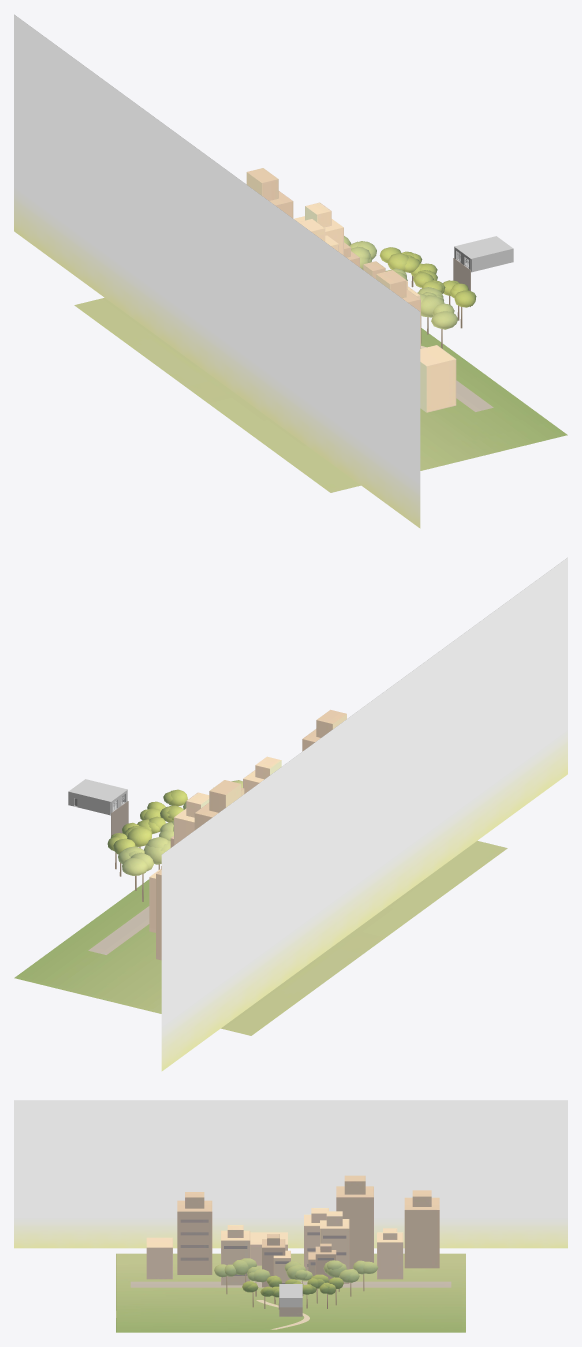
The model's file is graffico-office-p16a-draco-webp.glb.
The picture shows the model from 3 angles, top to bottom: view 1: azimuth 30°, elevation 25°; view 2: azimuth 150°, elevation 25°; view 3: azimuth 270°, elevation 25°; orthographic projection. The views are drawn at different scales.
Parts seen in each view (by area): view 1: STA_ext_sky, STA_ext_ground, STA_ext_city, STA_ext_green, STA_arch_shell; view 2: STA_ext_sky, STA_ext_ground, STA_ext_city, STA_ext_green, STA_arch_shell; view 3: STA_ext_sky, STA_ext_ground, STA_ext_city, STA_ext_green, STA_arch_shell.
Boxes of the visible parts, box(x1,y1,x2,y2) form: STA_ext_sky: box(14, 14, 420, 528); STA_ext_ground: box(74, 297, 567, 492); STA_ext_city: box(246, 168, 493, 412); STA_ext_green: box(344, 236, 476, 348); STA_arch_shell: box(454, 236, 513, 272); STA_ext_sky: box(161, 557, 567, 1071); STA_ext_ground: box(14, 840, 507, 1035); STA_ext_city: box(88, 709, 346, 960); STA_ext_green: box(107, 780, 242, 901); STA_arch_shell: box(68, 779, 127, 815); STA_ext_sky: box(14, 1100, 567, 1248); STA_ext_ground: box(116, 1253, 465, 1332); STA_ext_city: box(130, 1175, 451, 1316); STA_ext_green: box(214, 1258, 378, 1309); STA_arch_shell: box(279, 1284, 302, 1307).
Bounding box in the file's own units: 81.75 × 60 × 190.
48 materials, 5 textured.
